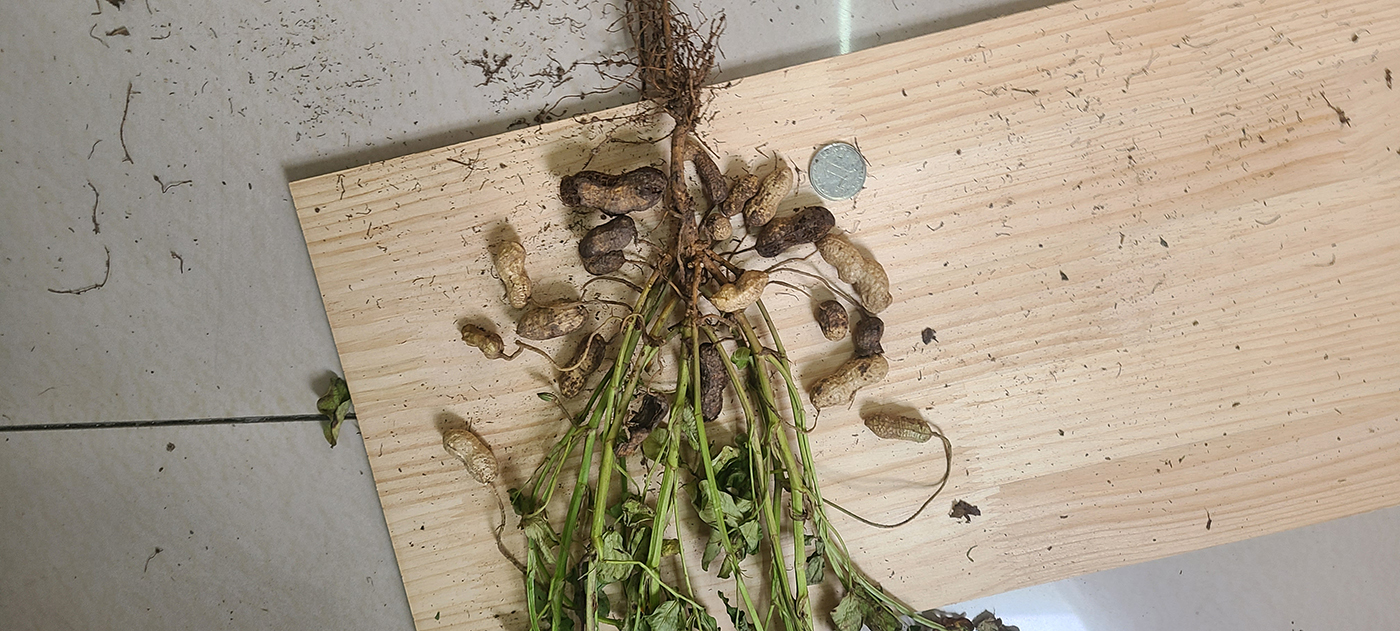h: (811, 317, 891, 409), (817, 233, 892, 315), (442, 429, 501, 486), (559, 334, 607, 400), (518, 300, 590, 342), (743, 169, 793, 228), (684, 142, 726, 206), (496, 240, 534, 310), (711, 269, 771, 311), (864, 414, 934, 445), (461, 323, 508, 361), (725, 173, 760, 216), (819, 301, 848, 343), (710, 214, 733, 242)
l: (559, 166, 668, 215), (757, 207, 835, 258), (615, 391, 669, 456), (692, 342, 730, 422), (578, 217, 635, 252), (583, 251, 626, 276)
